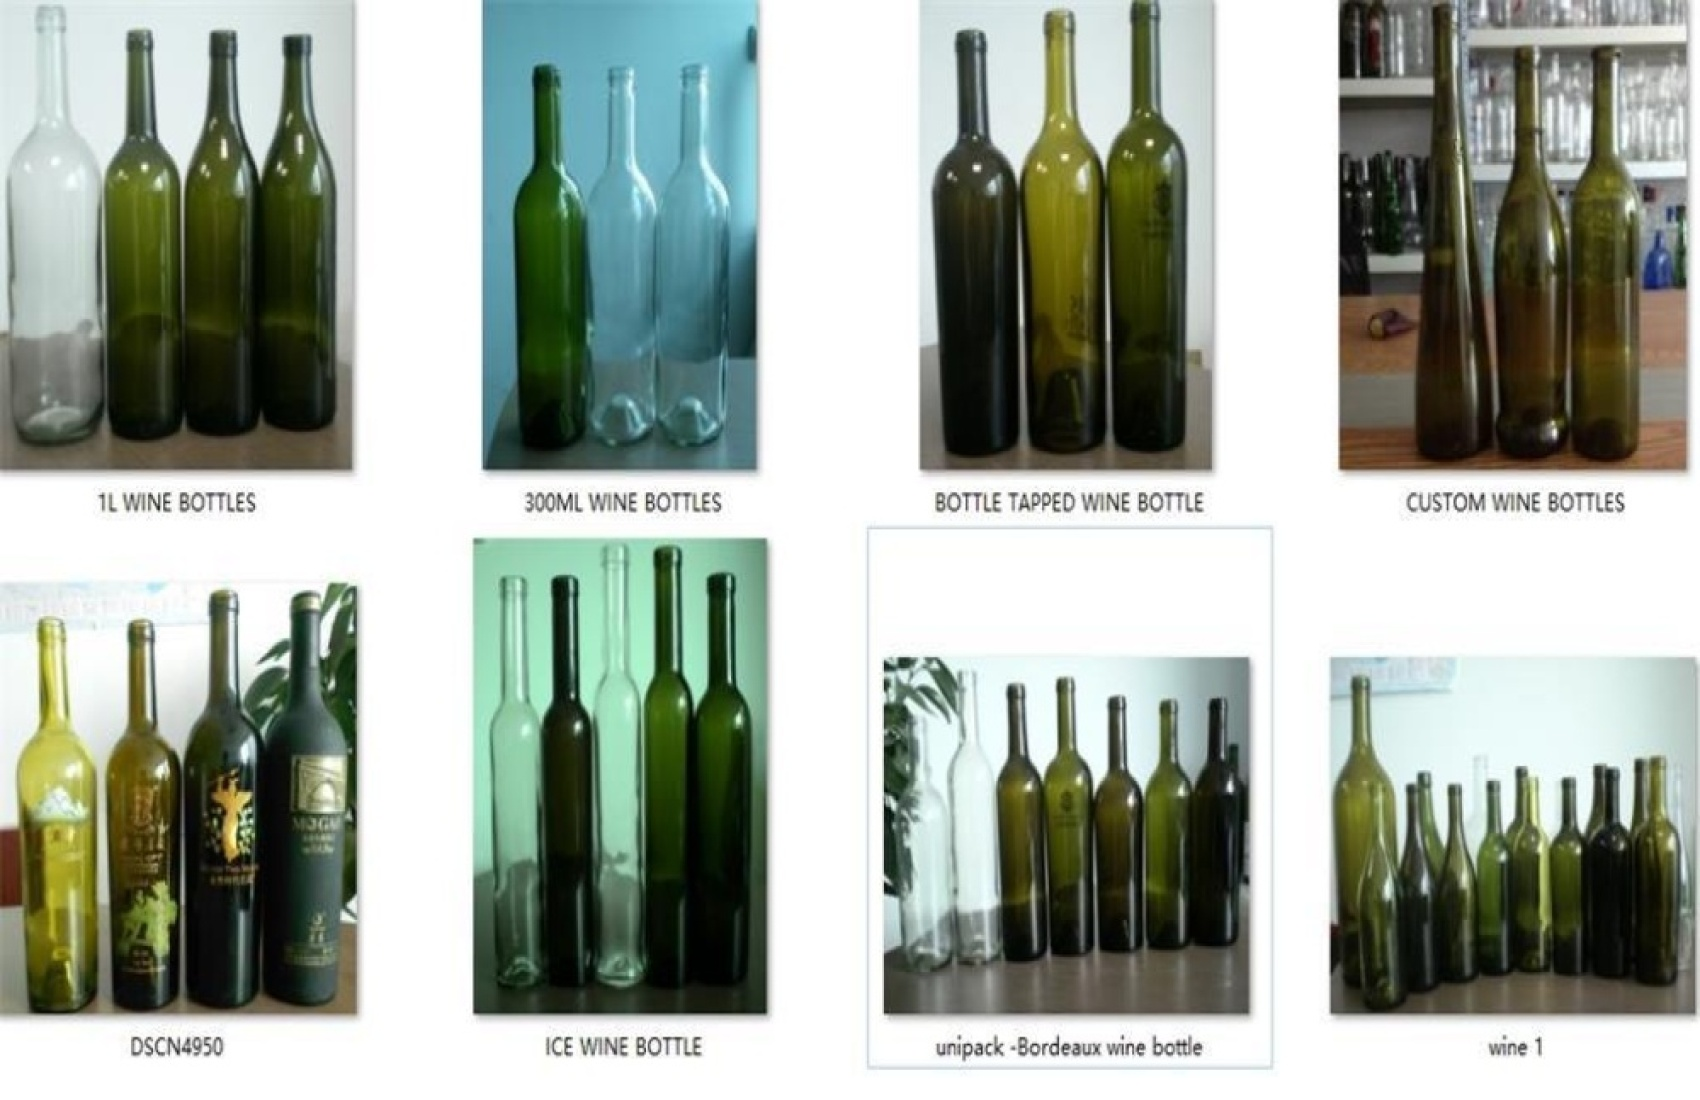wine: (99, 26, 178, 443), (266, 588, 346, 1005), (939, 28, 1019, 445), (1023, 27, 1103, 443), (175, 583, 254, 1000), (175, 48, 254, 465), (1106, 11, 1185, 429), (501, 62, 579, 479), (256, 32, 335, 448)
